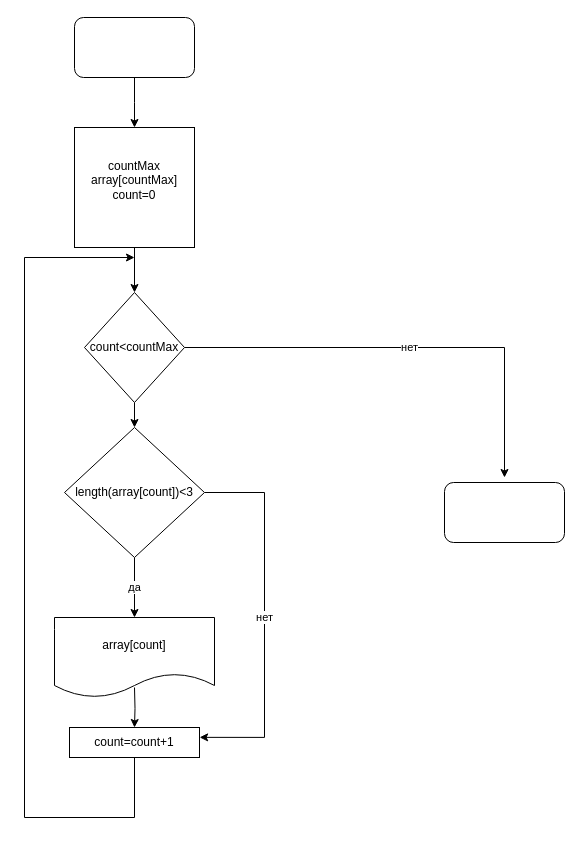
The diagram is 582 pixels wide and 843 high, and some of its shapes have lost their labels. Here are the shapes that lost their labels. From the top down, the box of each, then its label:
(74, 16, 194, 78): начало
(444, 482, 564, 542): end
